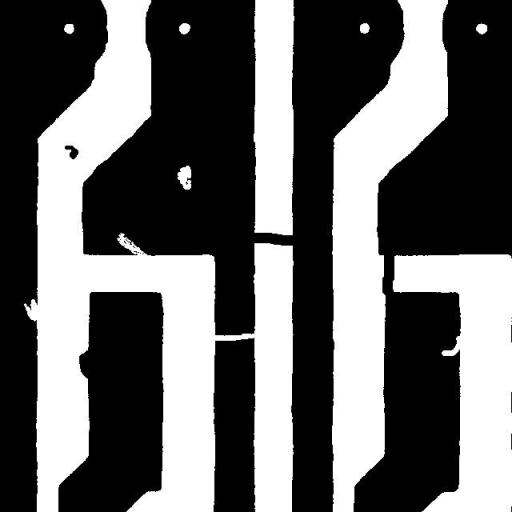copper: (56, 138, 86, 166)
mousebite: (109, 225, 155, 264), (434, 328, 470, 363), (16, 291, 46, 329)
open: (200, 326, 266, 348)
pin-hole: (170, 158, 198, 196)
short: (240, 225, 304, 253), (374, 243, 402, 304)
spur: (71, 342, 100, 386)
